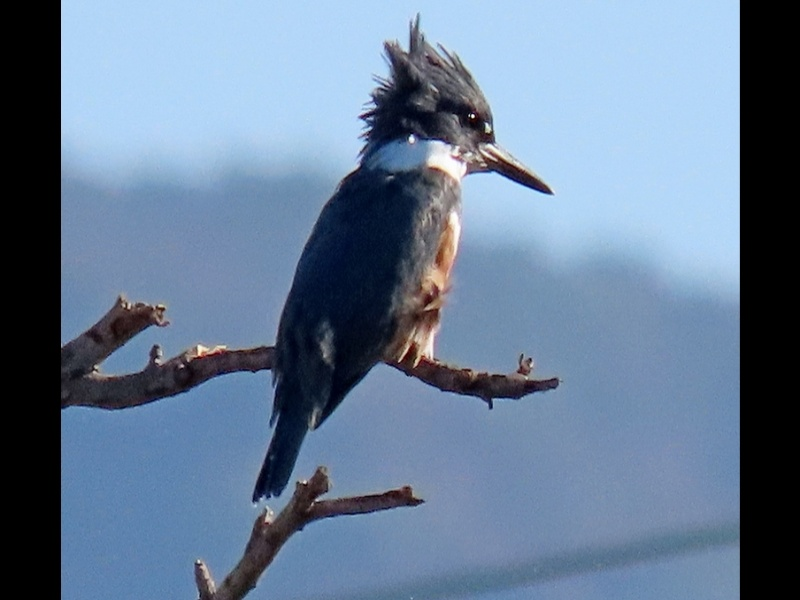kingfisher: (250, 9, 560, 505)
